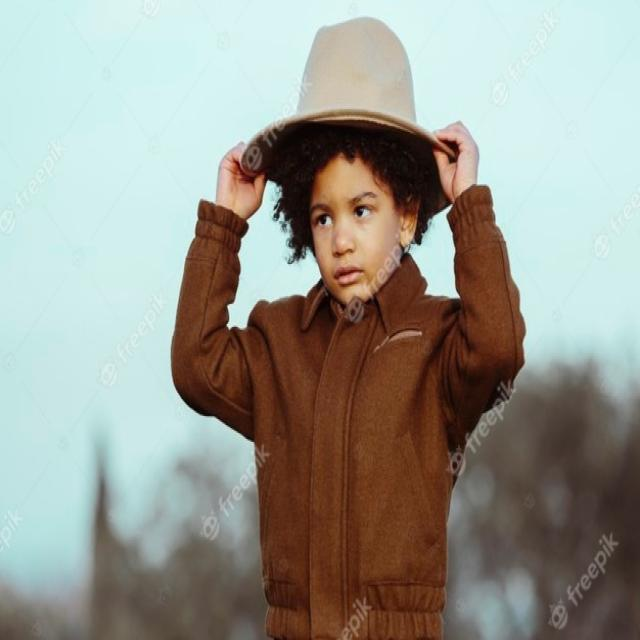hat: (241, 19, 462, 302)
